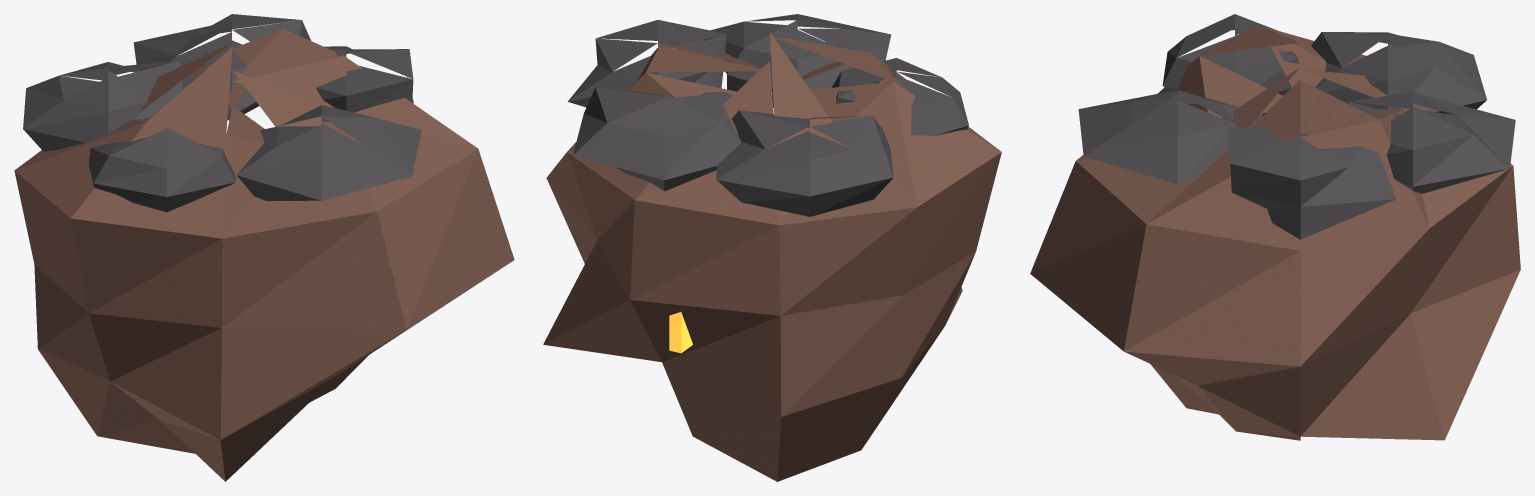
Rendered from volcano-and-lava-fields-volcano-and-lava-fields-volcan-a09750b0__37471.glb.
The picture shows the model from 3 angles, left to right: view 1: azimuth 30°, elevation 25°; view 2: azimuth 150°, elevation 25°; view 3: azimuth 270°, elevation 25°; orthographic projection. The views are drawn at different scales.
Visible parts, largest first — view 1: volcano-and-lava-fields-volcanic-bomb-medium; view 2: volcano-and-lava-fields-volcanic-bomb-medium; view 3: volcano-and-lava-fields-volcanic-bomb-medium.
Boxes of the visible parts, <box> form: volcano-and-lava-fields-volcanic-bomb-medium: <box>14,14,514,481</box>; volcano-and-lava-fields-volcanic-bomb-medium: <box>543,14,1001,481</box>; volcano-and-lava-fields-volcanic-bomb-medium: <box>1030,14,1520,440</box>.
Bounding box in the file's own units: 1.05 × 1 × 1.
Materials: 3 (1 with a texture image).
